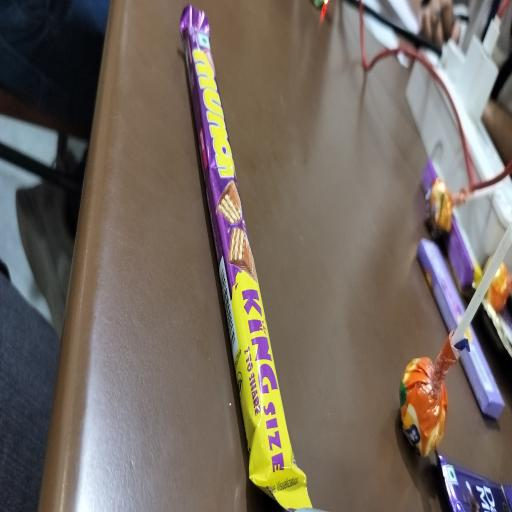chocolate: (188, 18, 309, 508)
munch: (193, 44, 238, 176)
